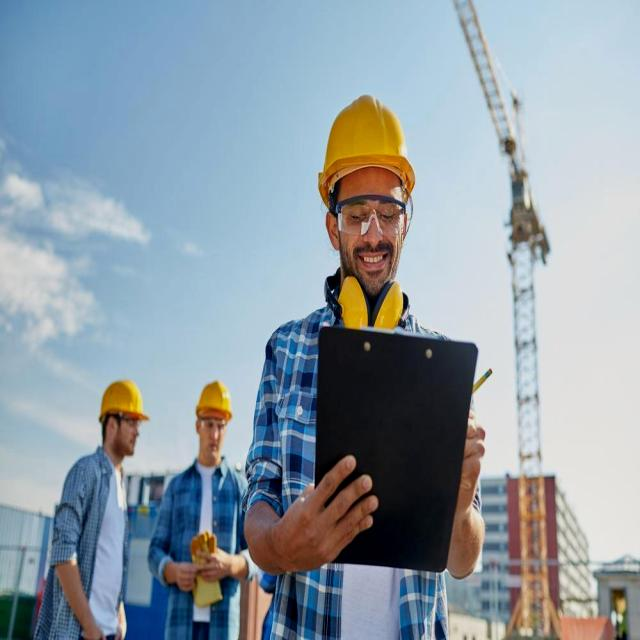face_nomask: (336, 166, 407, 298), (196, 412, 226, 460), (112, 412, 140, 453)
glasses: (333, 188, 411, 242)
hand_noglove: (270, 447, 378, 582), (198, 545, 232, 591), (170, 560, 195, 599)
head_helmet: (319, 93, 420, 184), (99, 380, 149, 415), (198, 383, 234, 416)
person: (273, 84, 468, 632), (40, 382, 144, 636), (152, 387, 248, 635)
